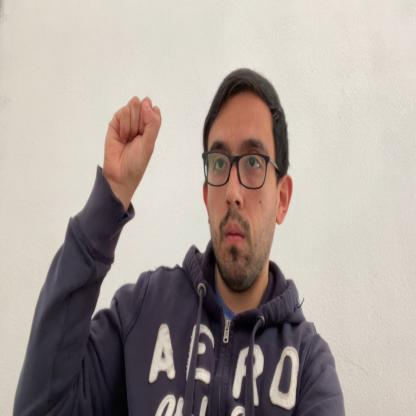S: (104, 93, 161, 196)
